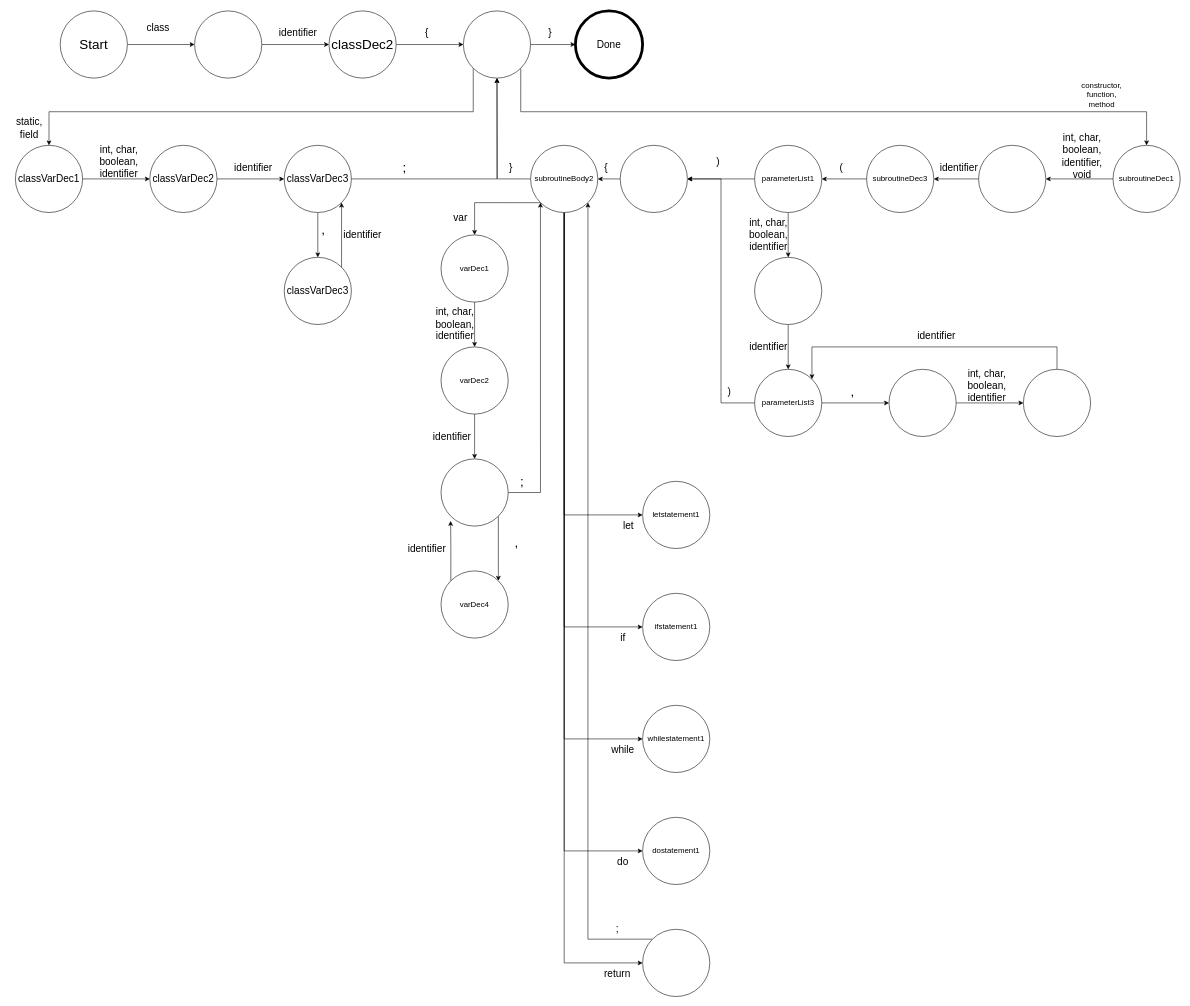
Some shapes in this 1190 by 1006 pixel diagram are drawn without their labels. Here are the shapes that lost their labels. From the top down, the centre of each, then its label:
point 228,44: classDec1
point 497,44: classDec3
point 653,179: subroutineBody1
point 1012,179: subroutineDec2
point 788,291: parameterList2
point 922,403: parameterList4
point 1057,403: parameterList5
point 474,492: varDec3
point 676,963: returnstatement1
